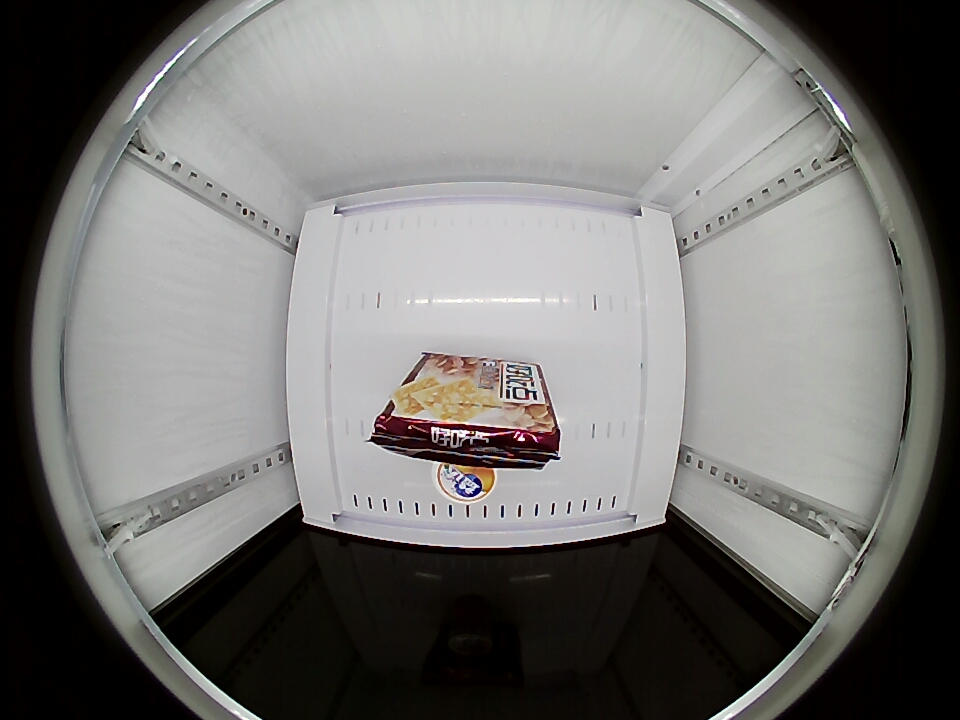haochidian: (369, 388, 562, 469)
